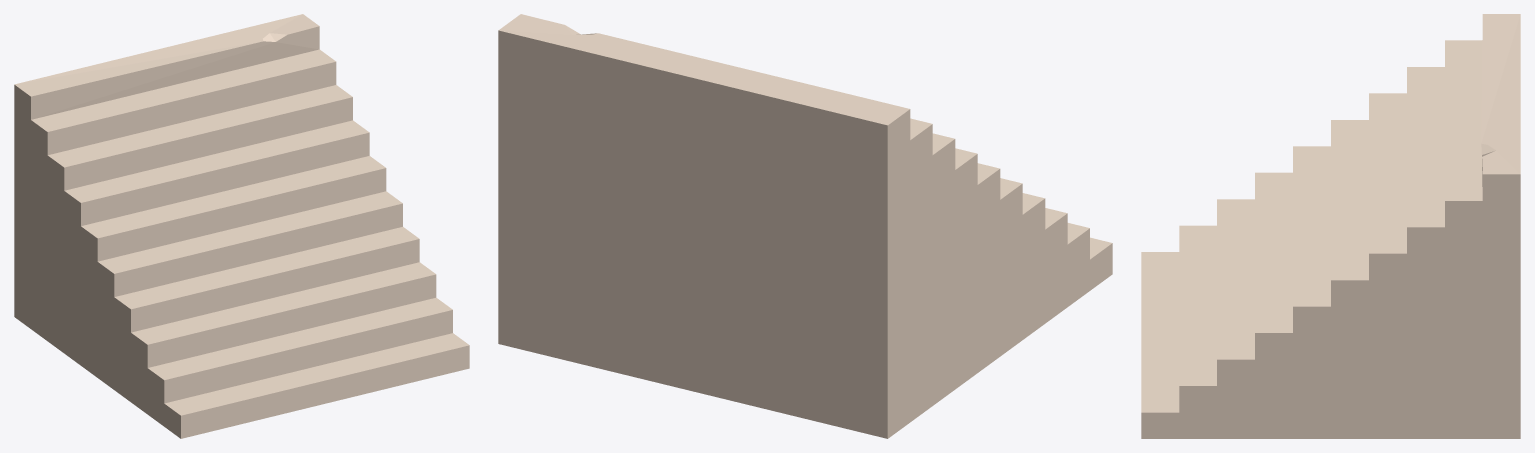
Rendered from empire-stairs-3x3m-corner-high-empire.glb.
3 views of the same model, side by side, from view 1: azimuth 30°, elevation 25°; view 2: azimuth 150°, elevation 25°; view 3: azimuth 270°, elevation 25° (orthographic). The views are drawn at different scales.
Visible parts, largest first — view 1: SM_Stairs_3x3m_Corner_High_Empire; view 2: SM_Stairs_3x3m_Corner_High_Empire; view 3: SM_Stairs_3x3m_Corner_High_Empire.
Boxes of the visible parts, bbox=[...] form: SM_Stairs_3x3m_Corner_High_Empire: bbox=[14, 14, 469, 438]; SM_Stairs_3x3m_Corner_High_Empire: bbox=[498, 14, 1112, 438]; SM_Stairs_3x3m_Corner_High_Empire: bbox=[1141, 14, 1520, 438].
Size of the model in its own units: 3 by 2.31 by 3.
